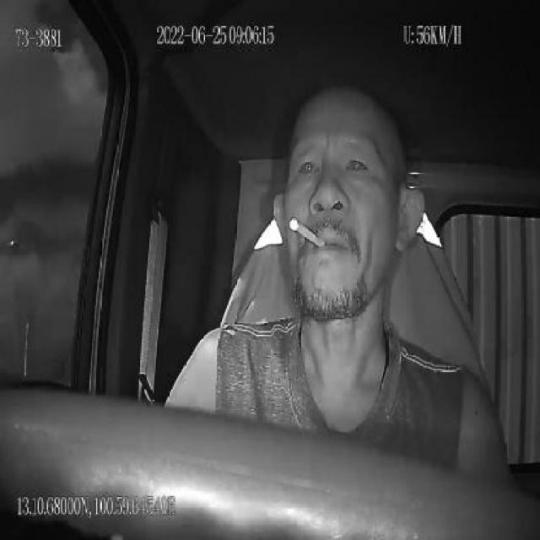smoking: (290, 216, 327, 249)
